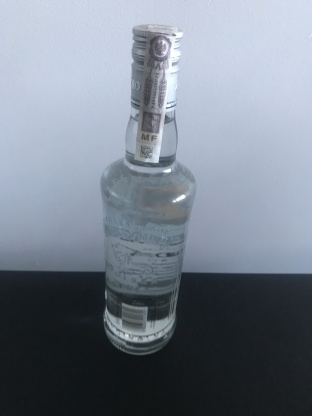nakretka: (127, 19, 185, 114)
